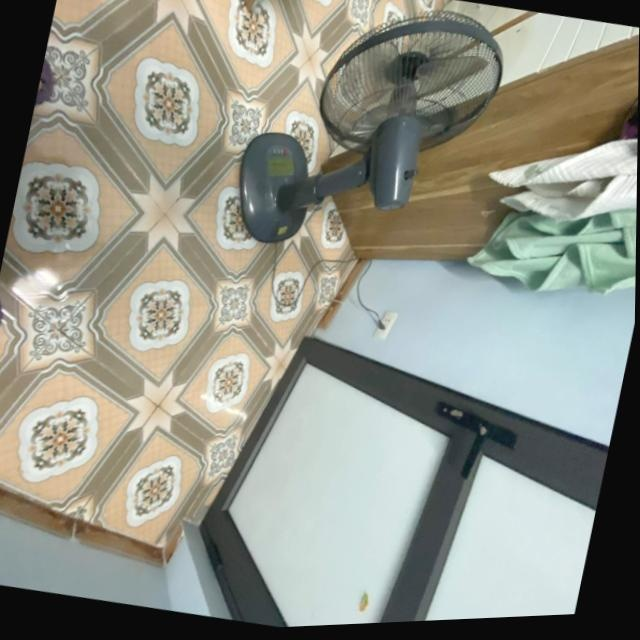outlet: (372, 308, 397, 342)
